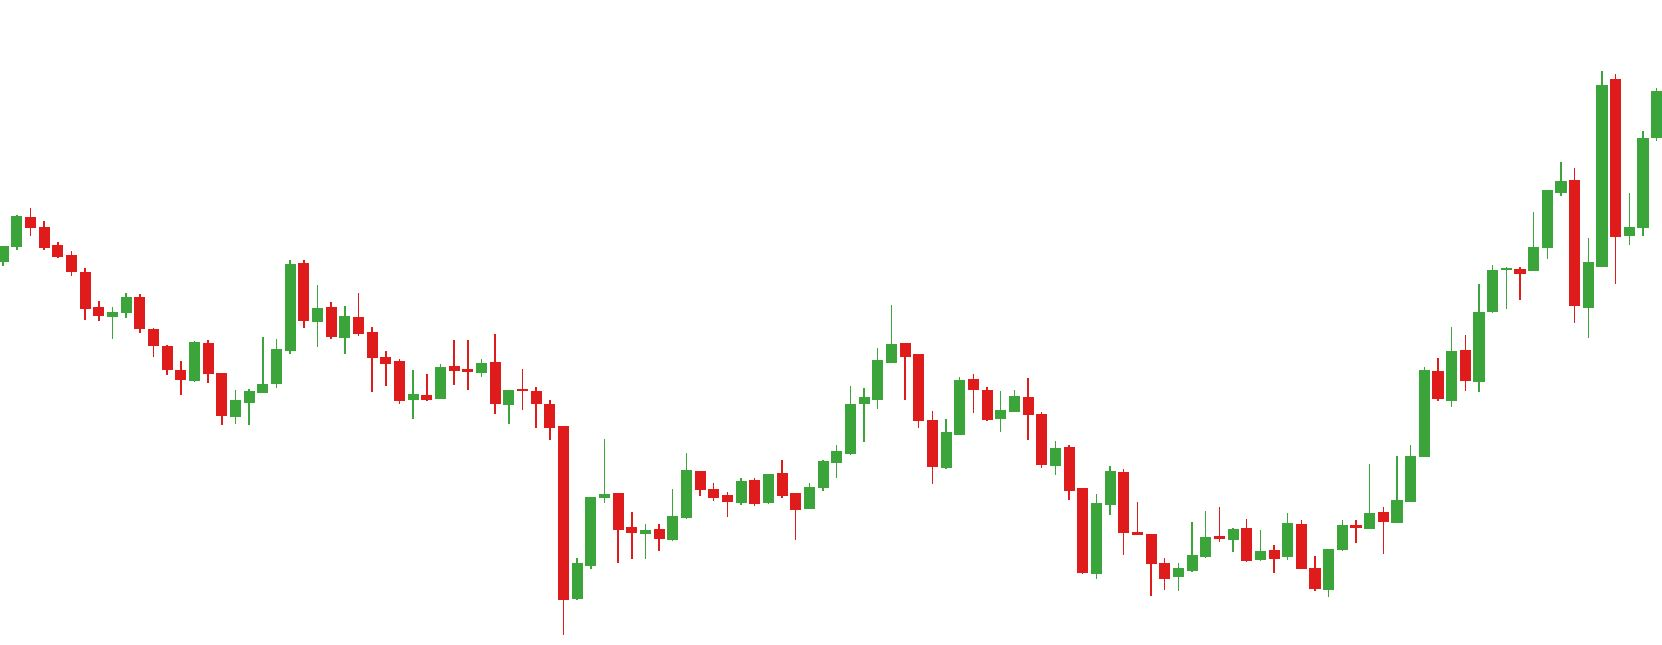buy: (1078, 518, 1186, 595)
sell: (120, 256, 310, 382)
